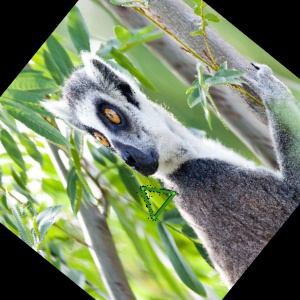triangle: (137, 182, 178, 223)
